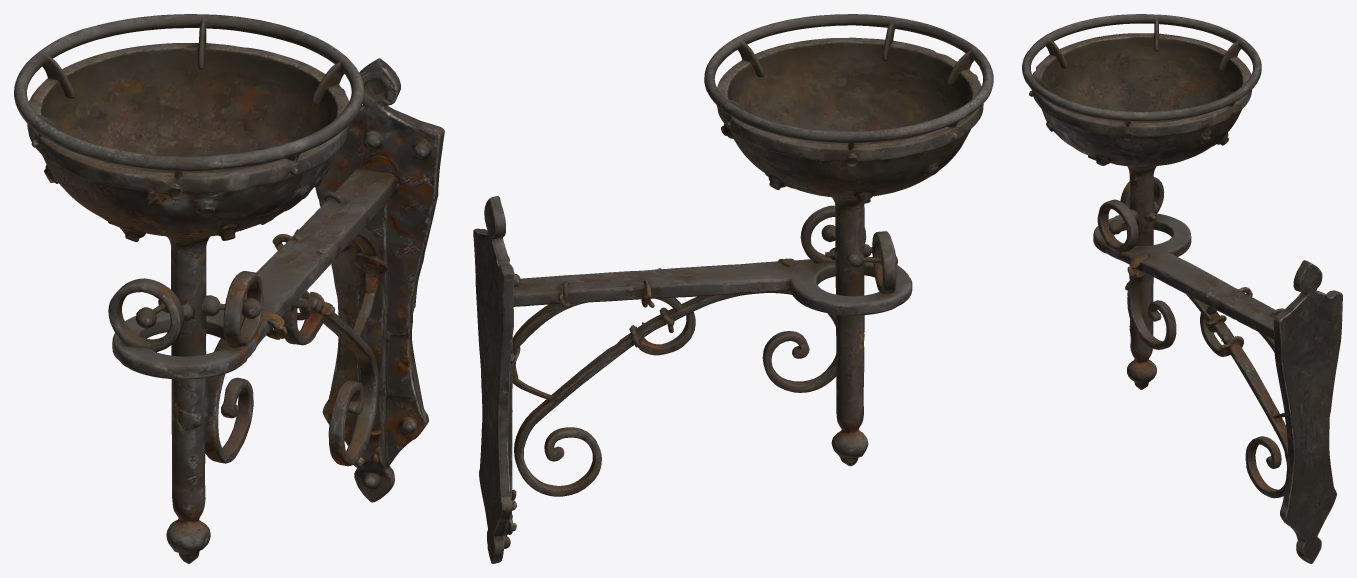
The model's file is torch.glb.
3 renders of one model, left to right at view 1: azimuth 30°, elevation 25°; view 2: azimuth 150°, elevation 25°; view 3: azimuth 270°, elevation 25°, orthographic. The views are drawn at different scales.
Visible parts, largest first — view 1: tripo_node_157f4fdc-1686-43cd-b3e3-412053b49d9c; view 2: tripo_node_157f4fdc-1686-43cd-b3e3-412053b49d9c; view 3: tripo_node_157f4fdc-1686-43cd-b3e3-412053b49d9c.
Part boxes in pixels (x1,y1,x2,y2): tripo_node_157f4fdc-1686-43cd-b3e3-412053b49d9c: [14, 14, 444, 563]; tripo_node_157f4fdc-1686-43cd-b3e3-412053b49d9c: [473, 14, 993, 563]; tripo_node_157f4fdc-1686-43cd-b3e3-412053b49d9c: [1022, 14, 1342, 563].
Size of the model in its own units: 0.8975 by 0.9811 by 0.7175.
1 material, 1 textured.
